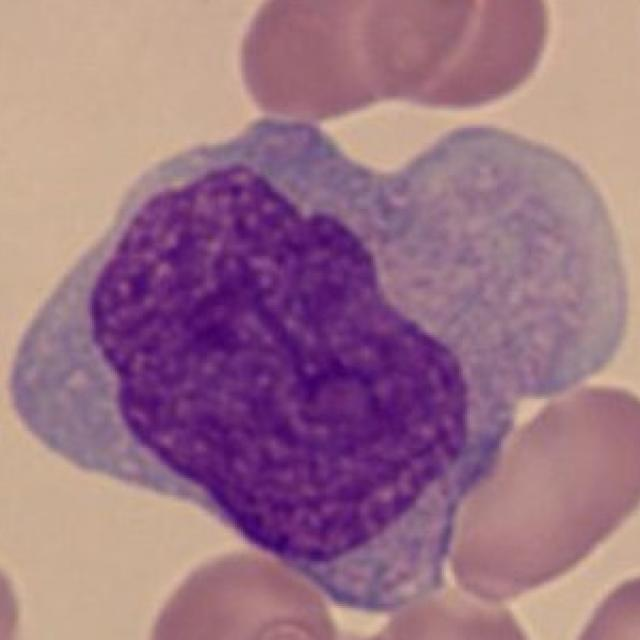WBC: (0, 109, 640, 606)
